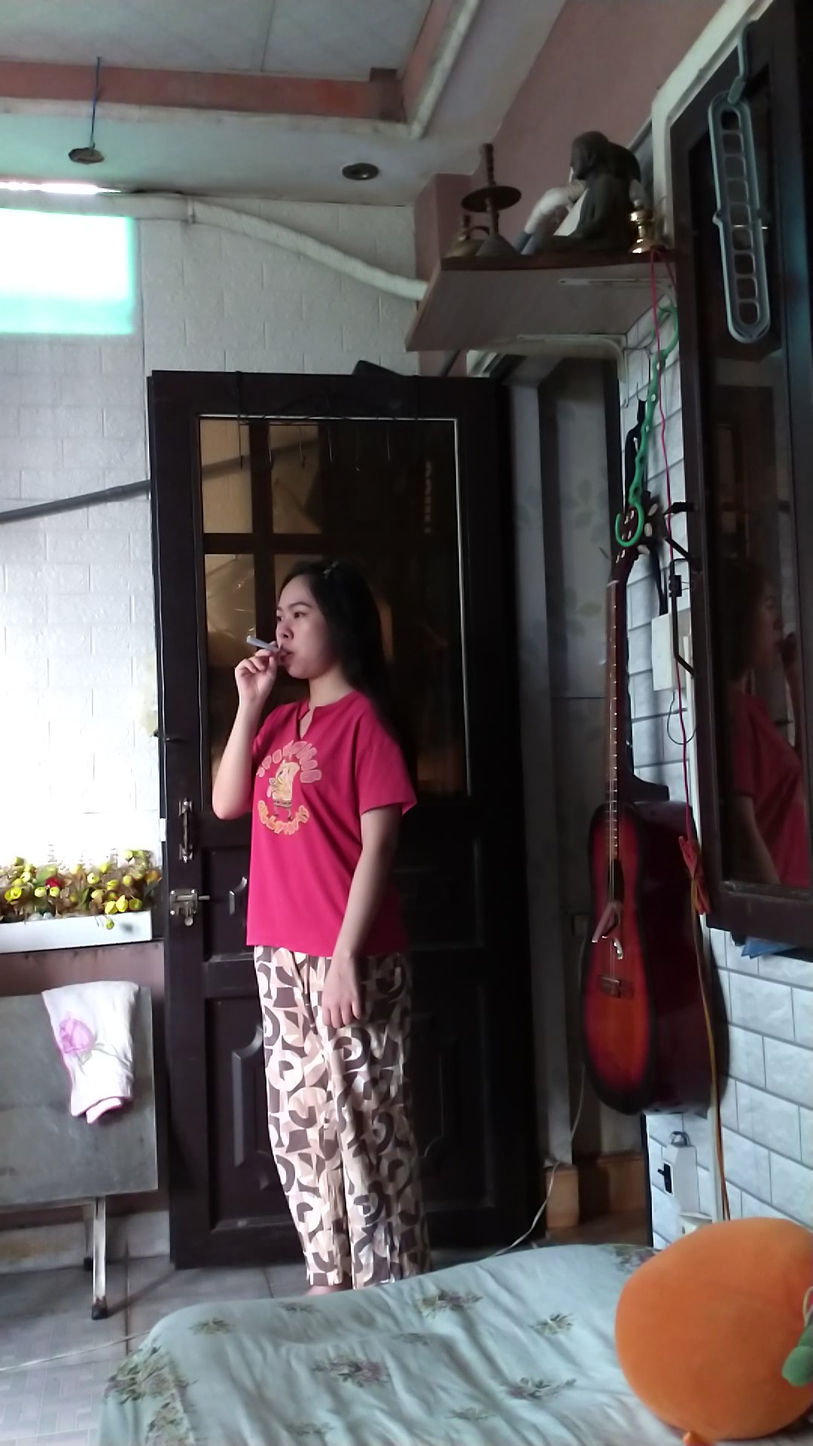cigarette: (244, 632, 279, 653)
person: (211, 538, 420, 1293)
